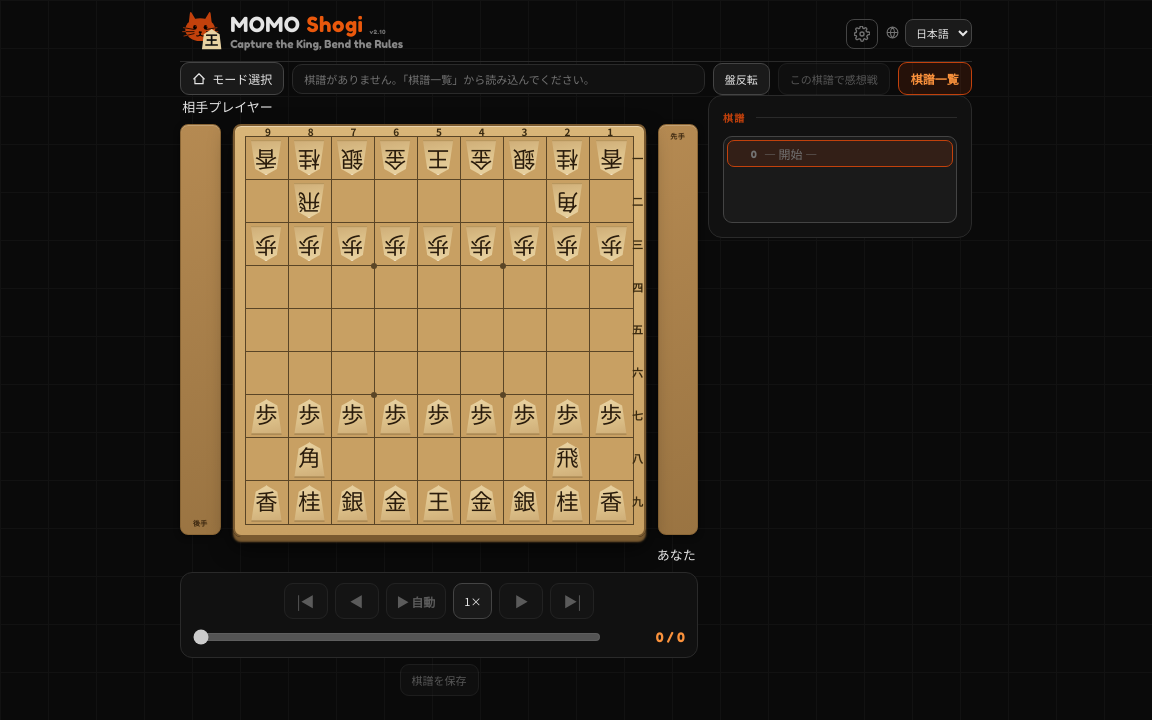
Test case: S08 記憶が空のとき › ★書類ピッカーを自動で開かない（押されるまで開かない）
Click the button "棋譜一覧". click: click(935, 79)
box: [898, 62, 972, 95]
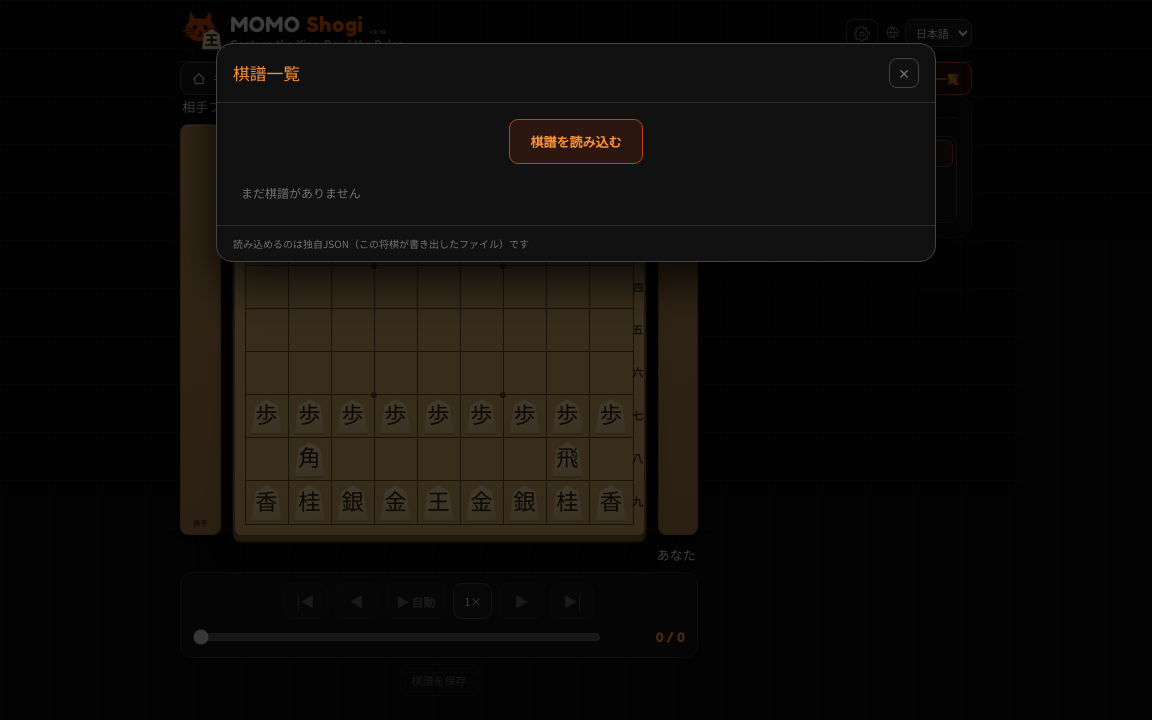
Now the text "まだ棋譜がありません" is shown, box [241, 184, 361, 201]
